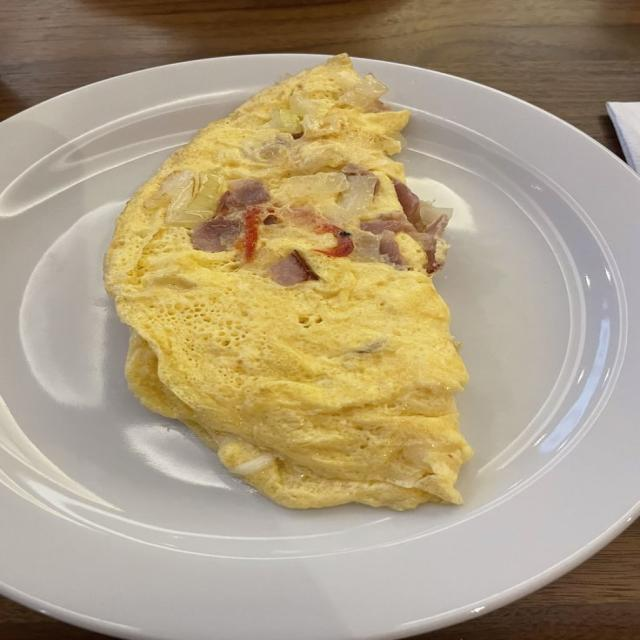omelette: (106, 55, 471, 509)
